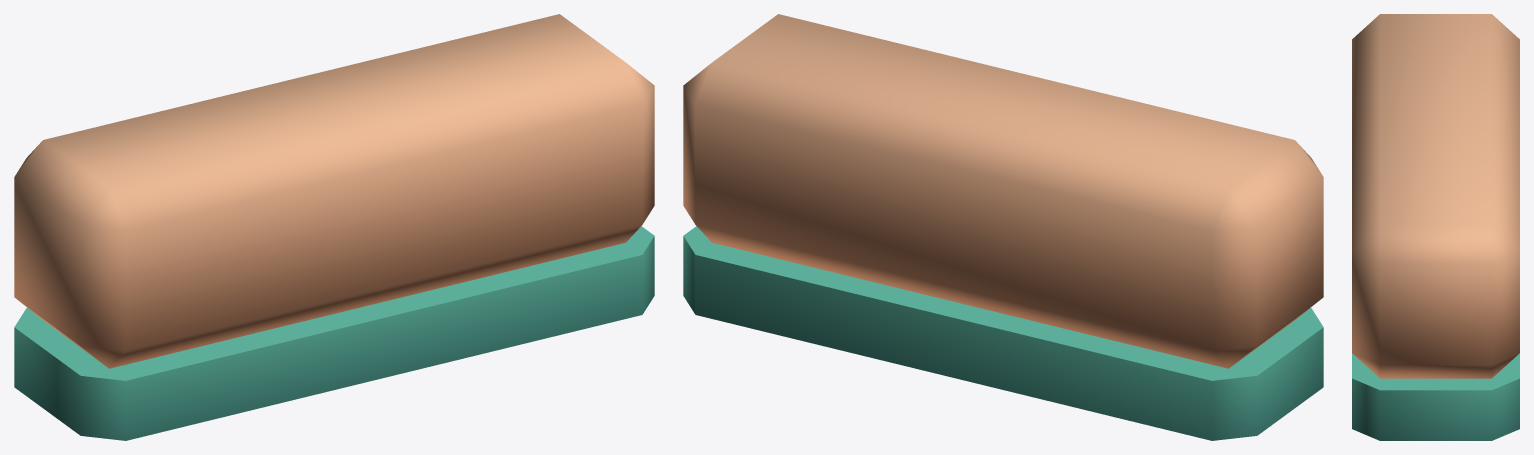
The model's file is hedge.glb.
The picture shows the model from 3 angles, left to right: view 1: azimuth 30°, elevation 25°; view 2: azimuth 150°, elevation 25°; view 3: azimuth 270°, elevation 25°; orthographic projection. The views are drawn at different scales.
Visible parts, largest first — view 1: hedge; view 2: hedge; view 3: hedge.
Part boxes in pixels (x1=…): hedge: x1=14, y1=14, x2=654, y2=440; hedge: x1=683, y1=14, x2=1323, y2=440; hedge: x1=1352, y1=14, x2=1519, y2=440.
Size of the model in its own units: 1 by 0.4 by 0.3.
